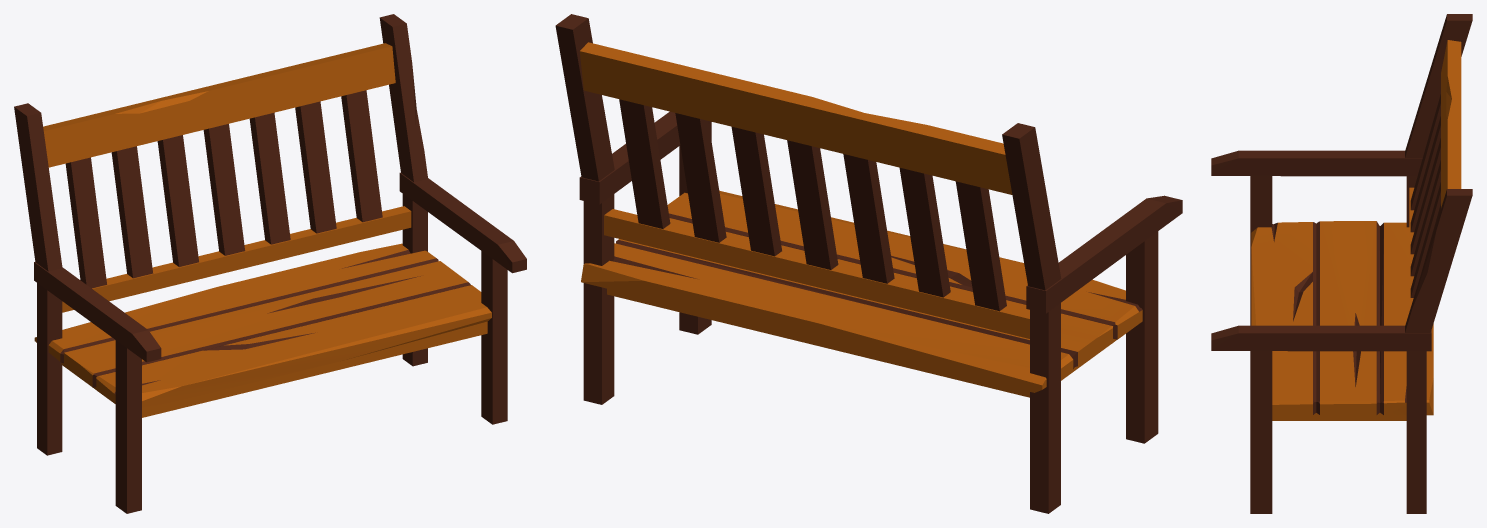
File: Bench_2.fbx
The picture shows the model from 3 angles, left to right: view 1: azimuth 30°, elevation 25°; view 2: azimuth 150°, elevation 25°; view 3: azimuth 270°, elevation 25°; orthographic projection. The views are drawn at different scales.
Parts seen in each view (by area): view 1: Bench_2; view 2: Bench_2; view 3: Bench_2.
Boxes of the visible parts, left/top/right/bottom form: Bench_2: left=14, top=14, right=526, bottom=513; Bench_2: left=555, top=14, right=1182, bottom=513; Bench_2: left=1211, top=14, right=1472, bottom=513.
Bounding box in the file's own units: 47.1 × 38.22 × 28.44.
